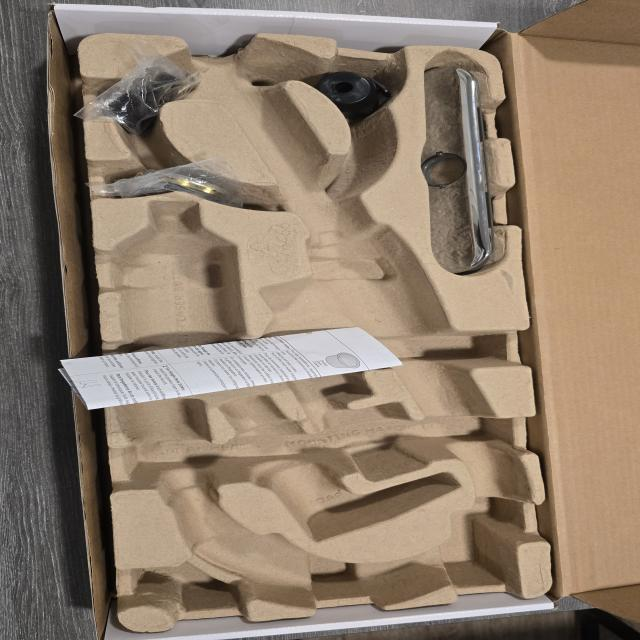1m: (124, 38, 528, 605)
2m: (223, 394, 458, 541)
3m: (110, 203, 241, 381)
4: (420, 68, 494, 272)
5: (314, 71, 392, 124)
6: (95, 156, 248, 209)
7: (72, 39, 204, 135)
8: (57, 326, 402, 408)
